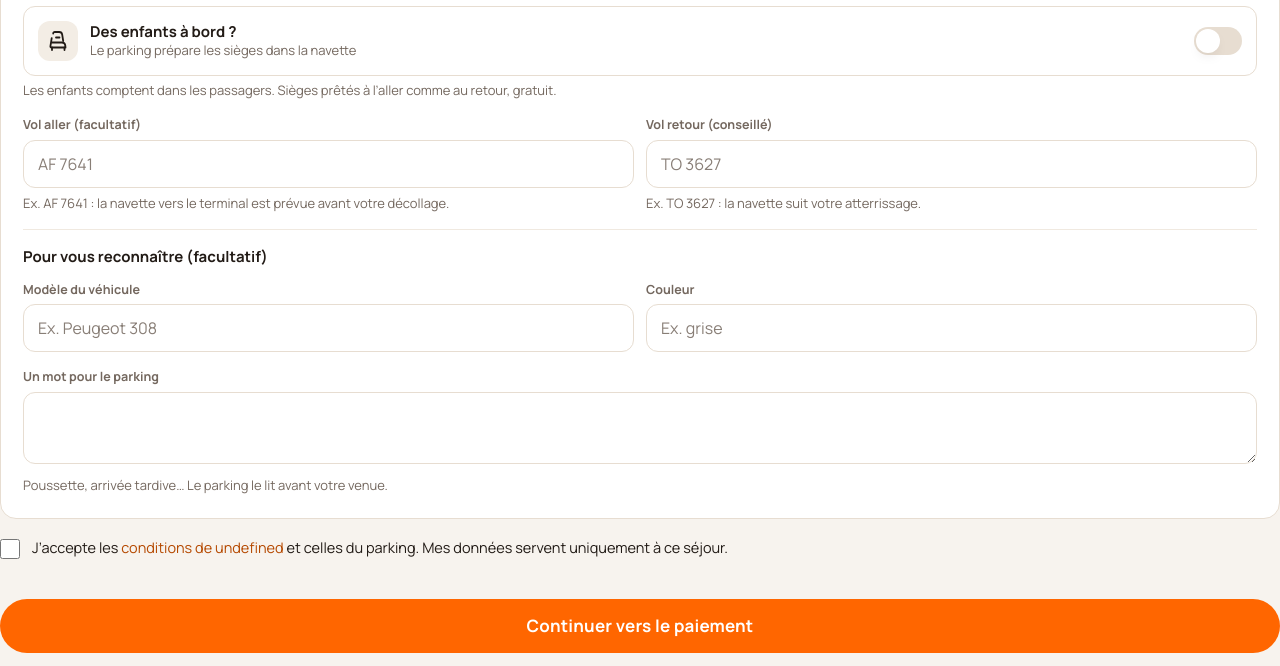
Test: BookingForm › shows an error reported on the full name (`customerName`) under « Prénom », never lost
The image size is (1280, 666).
(page scrolled)
Click the button "Continuer vers le paiement": point(640, 626) [0,599,1279,653]
(page scrolled)
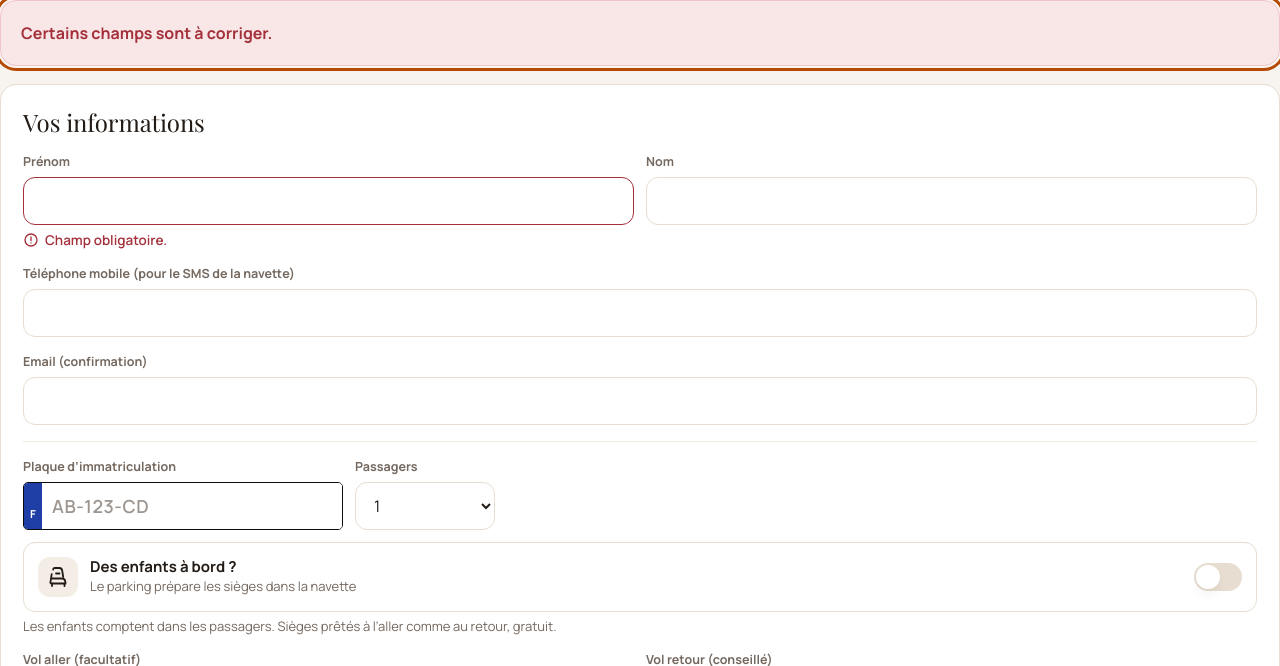
Expected: the message reads "Certains champs sont à corriger.", [21,22,272,44]
